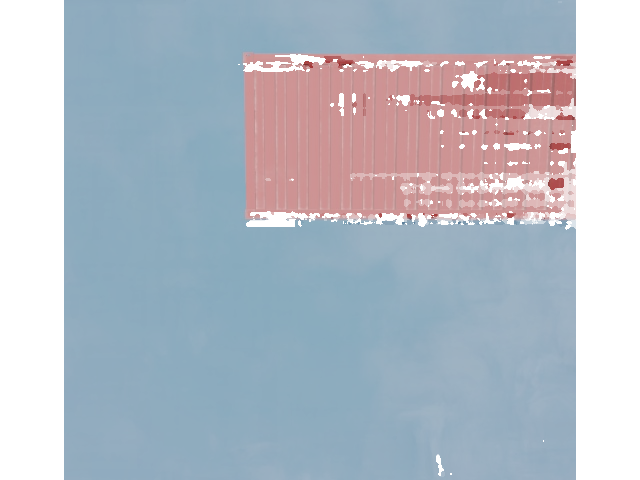container5: (243, 52, 640, 222)
